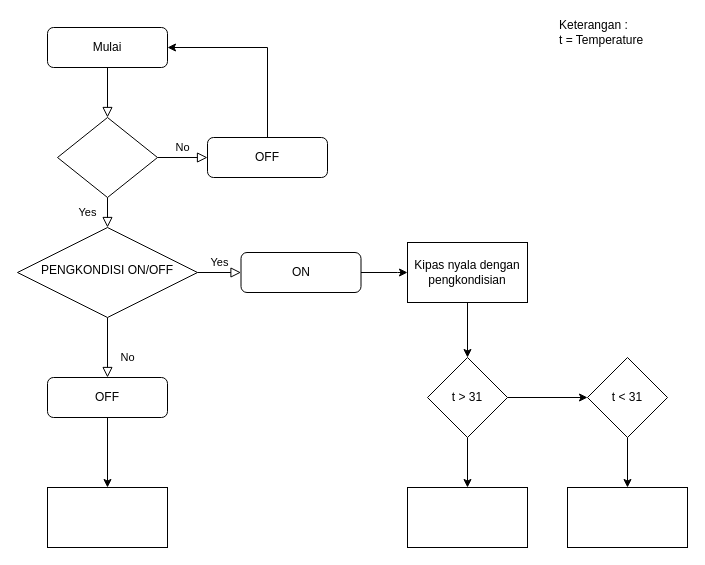
Image size: 705x565. Some labels were removed from this diagram. Each missing label, with the box of its shape:
Kipas mati: (566, 486, 688, 548)
Kipas nyala: (406, 486, 528, 548)
Kipas nyala tanpa pengkondisian: (46, 486, 168, 548)
SAKLAR ON / OFF: (56, 116, 158, 198)
